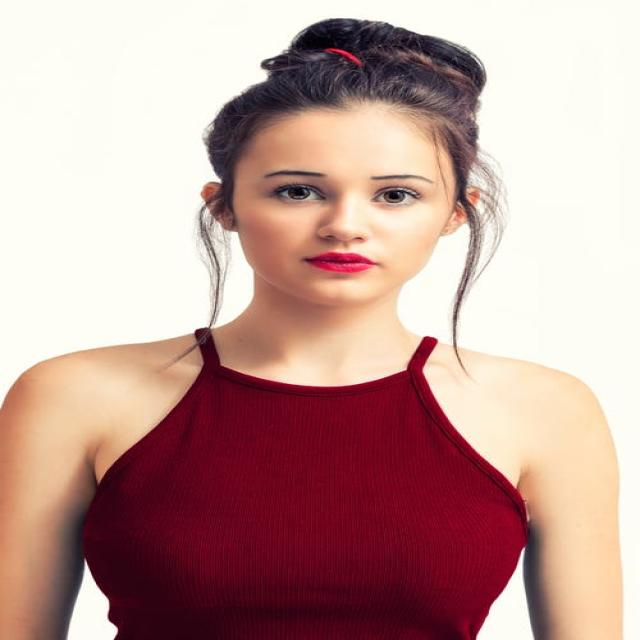mobile_phonerotation: (2, 17, 624, 638)
